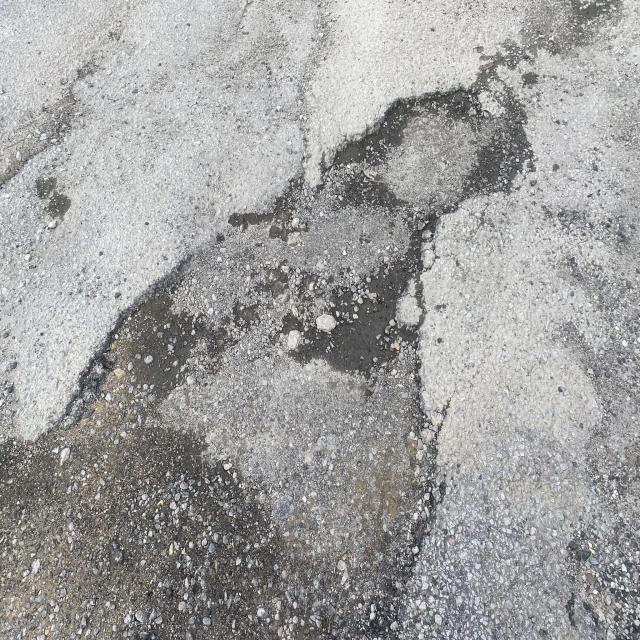Pothole: (75, 82, 607, 396)
